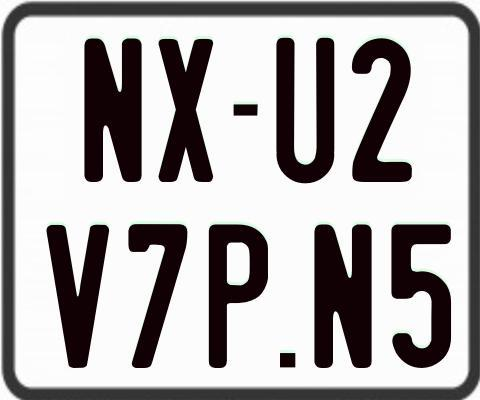2: (352, 38, 415, 187)
5: (388, 224, 451, 369)
7: (128, 224, 187, 372)
N: (313, 221, 375, 371), (84, 38, 142, 183)
P: (208, 222, 273, 367)
U: (276, 37, 336, 185)
V: (44, 225, 110, 368)
X: (158, 37, 215, 182)
